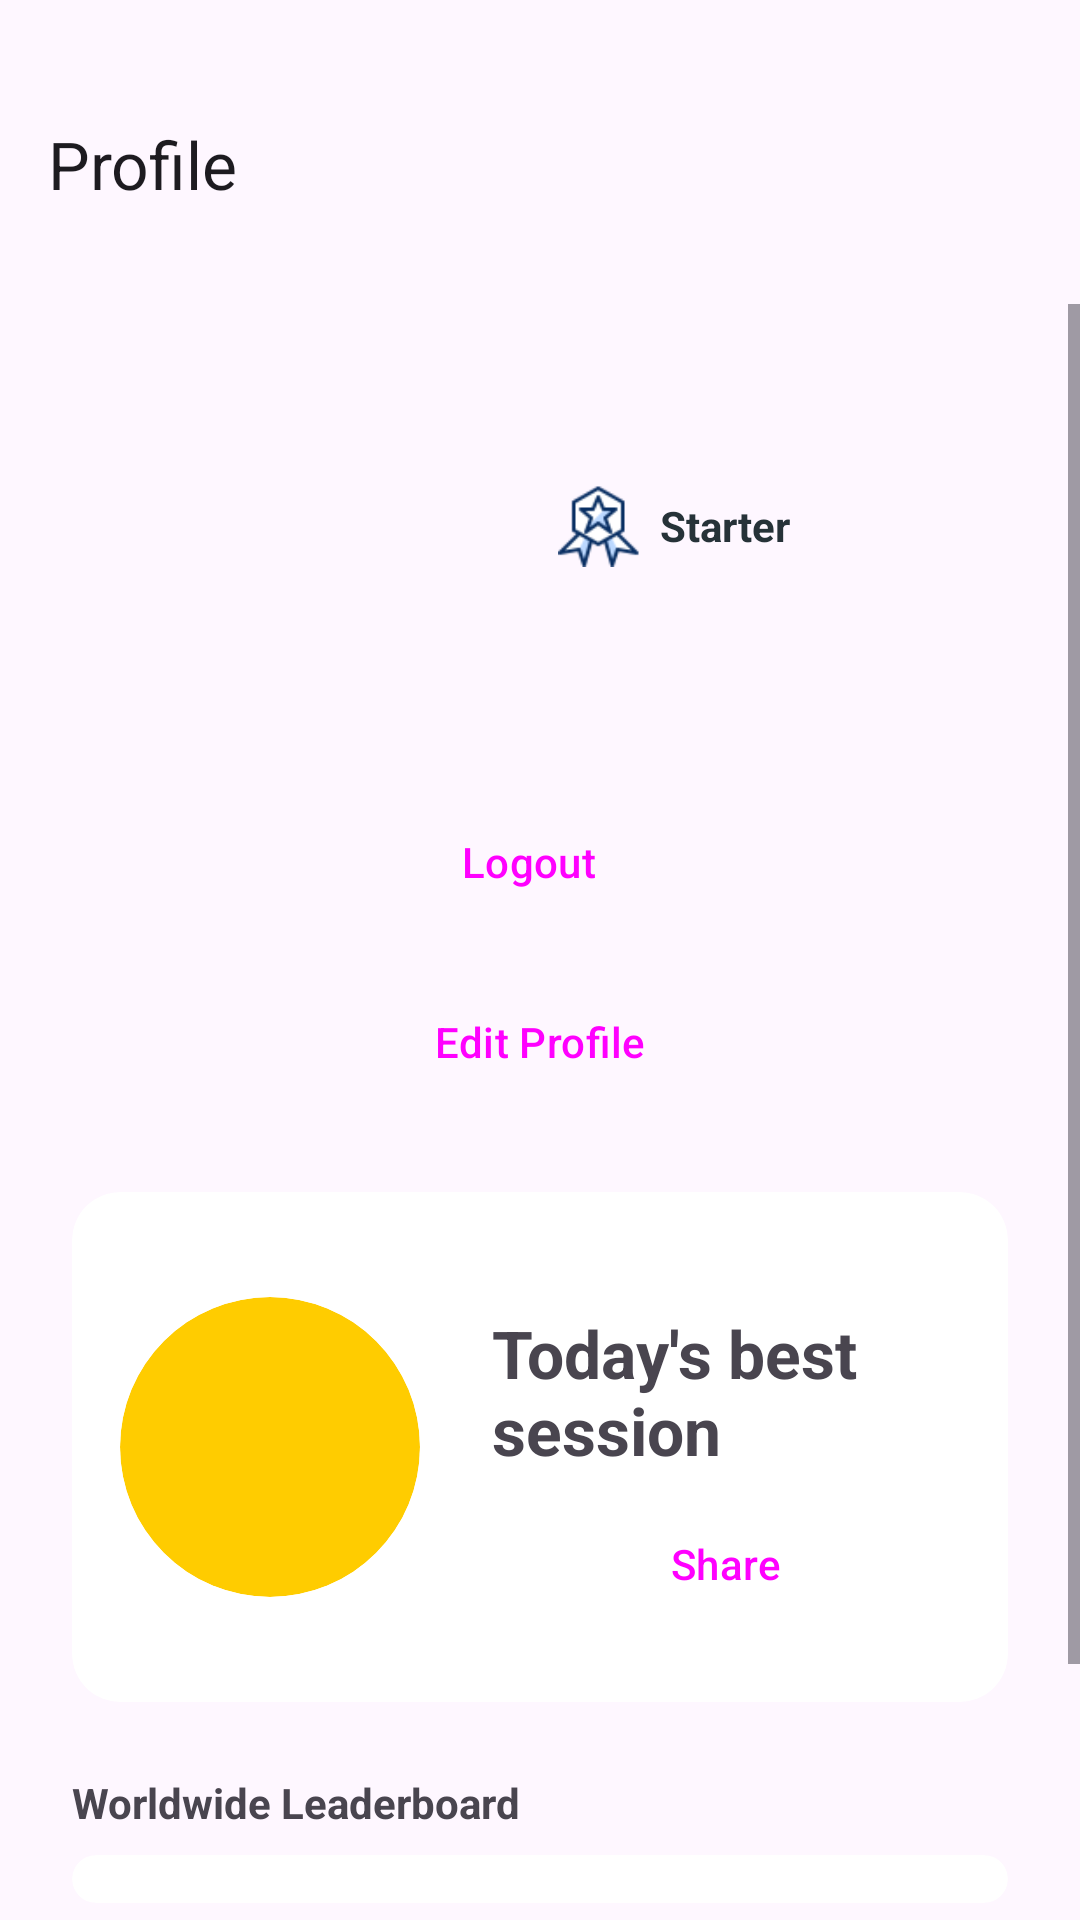

Point at icon controls on the screen. Image size 1080*1920, points as point (x, y).
Level badge: point (598, 526)
